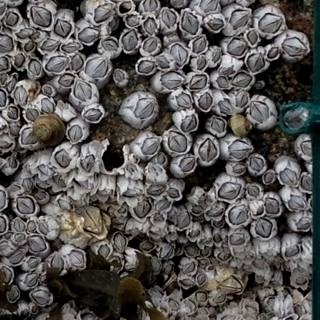Barnacle: (76, 203, 104, 234), (213, 278, 243, 304), (134, 99, 156, 122), (86, 57, 109, 78), (198, 139, 218, 163), (31, 7, 53, 28), (258, 15, 282, 34), (161, 71, 185, 90), (283, 38, 308, 56), (228, 203, 248, 225), (229, 141, 252, 160), (218, 184, 242, 201), (230, 9, 249, 30), (181, 12, 199, 34), (169, 131, 187, 153), (94, 4, 113, 24), (53, 20, 73, 39), (254, 218, 273, 238), (227, 38, 248, 56), (251, 102, 269, 123), (181, 113, 199, 134), (75, 80, 92, 102), (47, 56, 70, 72), (247, 53, 265, 73), (54, 149, 72, 169), (170, 45, 187, 66), (17, 197, 36, 215), (20, 127, 38, 145), (29, 235, 47, 253), (134, 200, 151, 219), (122, 31, 138, 51), (141, 139, 161, 155), (7, 250, 27, 266), (78, 28, 99, 43), (281, 169, 298, 187), (233, 73, 253, 88), (234, 90, 249, 110), (162, 9, 176, 30), (0, 34, 14, 55), (69, 251, 86, 268), (264, 197, 280, 215), (144, 18, 159, 37), (189, 75, 208, 90), (288, 197, 308, 211), (114, 233, 128, 253), (199, 0, 220, 13), (198, 92, 213, 110), (179, 157, 197, 172), (32, 291, 51, 305), (177, 93, 193, 109), (176, 213, 191, 230), (14, 86, 28, 104), (82, 155, 96, 173), (145, 185, 166, 197), (51, 255, 65, 273), (40, 98, 55, 114), (22, 273, 38, 288), (138, 60, 155, 74), (69, 126, 83, 143), (218, 100, 233, 115), (285, 244, 301, 258), (109, 258, 123, 274), (208, 18, 225, 31), (193, 37, 206, 54), (41, 40, 59, 52), (101, 41, 119, 53), (84, 110, 102, 122), (0, 267, 12, 285), (156, 55, 170, 70), (231, 232, 245, 247), (71, 55, 84, 71), (251, 157, 264, 173), (38, 163, 54, 176), (29, 60, 41, 77), (6, 76, 18, 93), (161, 246, 175, 260), (6, 12, 19, 27), (151, 286, 164, 301), (301, 142, 313, 158), (302, 176, 314, 192), (251, 204, 263, 220), (99, 245, 111, 261), (144, 0, 158, 13), (144, 39, 157, 53), (60, 74, 74, 87), (27, 109, 41, 122), (297, 218, 311, 231), (27, 257, 42, 269), (248, 30, 259, 46), (155, 200, 171, 211), (126, 14, 139, 27), (59, 199, 73, 211), (8, 288, 20, 302), (22, 178, 33, 193), (185, 298, 196, 313), (63, 44, 81, 53), (98, 189, 114, 199), (207, 208, 223, 218), (248, 185, 261, 197), (13, 219, 25, 232), (183, 263, 196, 275), (217, 76, 228, 90), (142, 240, 156, 251), (0, 56, 9, 73), (124, 189, 141, 198), (151, 257, 160, 274), (149, 166, 161, 178), (54, 176, 66, 188), (9, 107, 20, 120), (9, 126, 20, 139), (186, 246, 199, 257), (266, 298, 277, 311), (170, 299, 181, 312), (39, 220, 49, 234), (282, 286, 292, 300), (24, 41, 35, 53), (0, 139, 12, 150), (9, 157, 20, 169), (233, 163, 245, 174), (169, 189, 181, 200), (36, 190, 48, 201), (196, 292, 208, 303), (164, 264, 174, 277), (15, 55, 24, 69), (238, 257, 256, 264), (268, 48, 278, 60), (116, 71, 126, 83), (154, 213, 166, 223), (80, 311, 95, 319), (235, 250, 252, 257), (18, 30, 31, 39), (212, 50, 221, 63), (197, 57, 206, 70), (191, 206, 204, 215), (295, 277, 308, 286), (0, 241, 10, 252), (27, 220, 36, 232), (219, 252, 231, 261), (181, 279, 194, 287), (43, 85, 53, 95), (21, 309, 31, 319), (149, 229, 163, 236), (198, 258, 210, 266), (246, 306, 258, 314), (221, 68, 234, 75), (127, 166, 137, 175), (213, 235, 223, 244), (201, 248, 211, 257), (198, 275, 207, 285), (189, 231, 200, 239), (15, 234, 26, 242), (200, 238, 211, 246), (255, 262, 266, 270), (131, 228, 143, 235), (265, 174, 274, 183), (157, 154, 165, 164), (295, 306, 303, 316), (25, 164, 31, 175), (0, 122, 7, 131), (174, 0, 183, 6), (243, 316, 259, 319), (261, 313, 269, 319)
